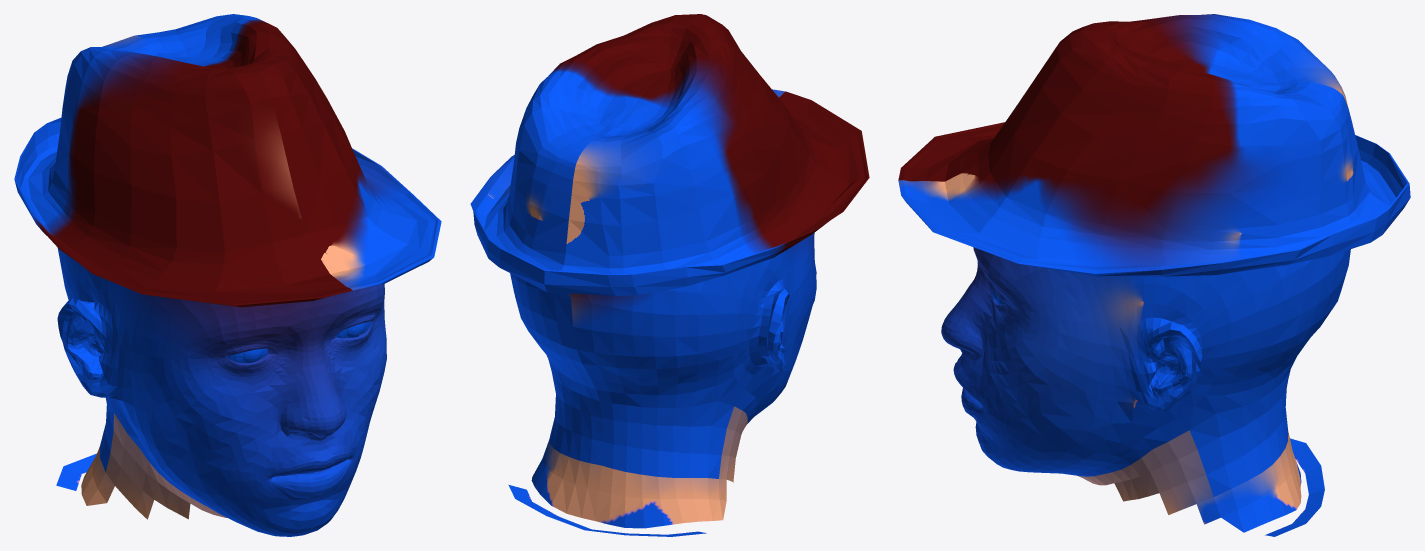
The model's file is head.dae.
3 views of the same model, side by side, from view 1: azimuth 30°, elevation 25°; view 2: azimuth 150°, elevation 25°; view 3: azimuth 270°, elevation 25° (orthographic). The views are drawn at different scales.
Visible parts, largest first — view 1: node; view 2: node; view 3: node.
Boxes of the visible parts, bbox=[...] form: node: bbox=[14, 14, 441, 536]; node: bbox=[470, 14, 869, 536]; node: bbox=[898, 14, 1410, 536].
Size of the model in its own units: 0.1863 by 0.2573 by 0.2578.
1 material, 1 textured.
